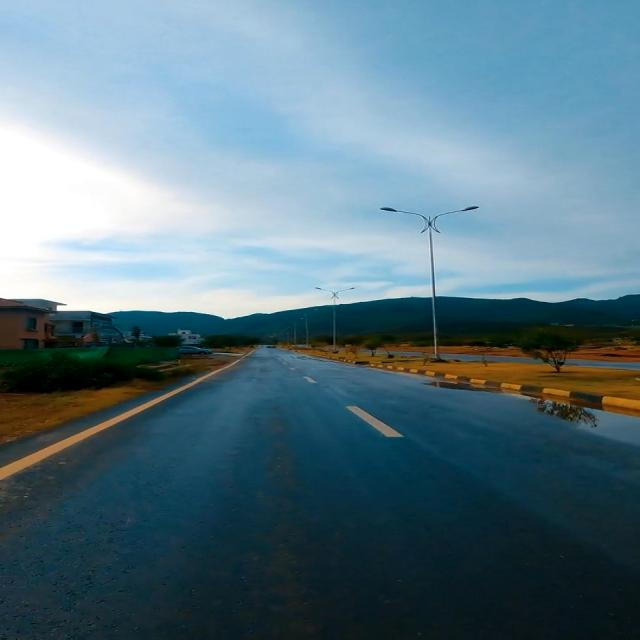lane: (0, 348, 256, 479), (346, 406, 402, 437)
road: (2, 348, 636, 639)
